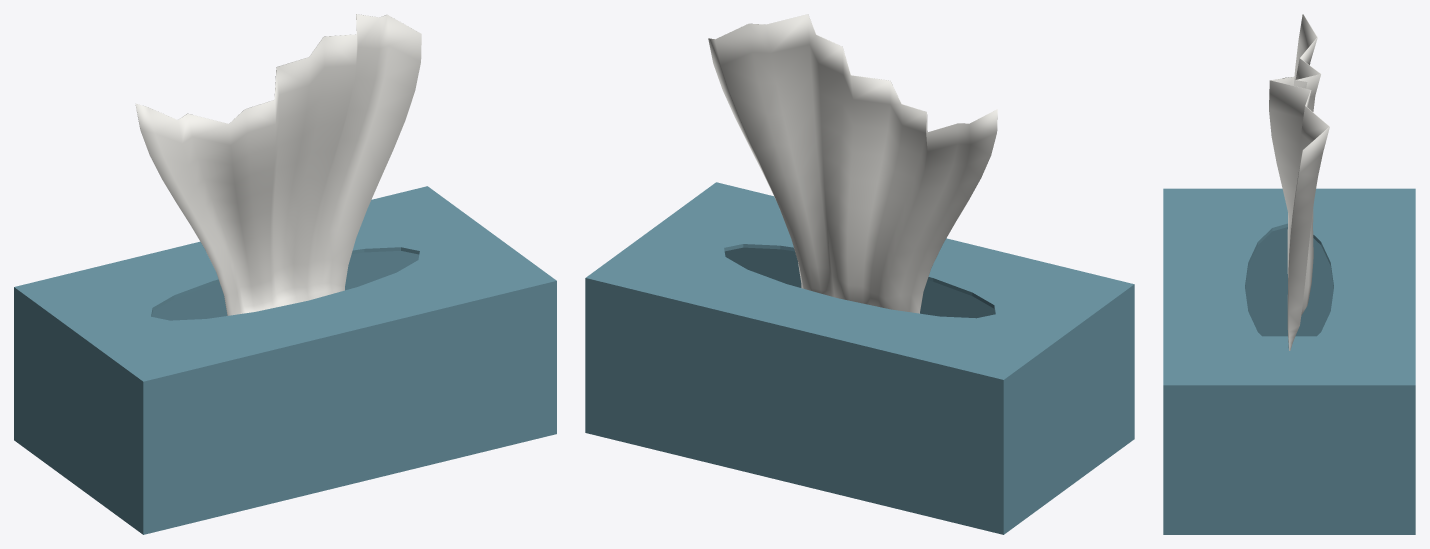
Rendered from A-NEW-20261027-TISSUE-BOX-001_LOD2_R2.glb.
3 renders of one model, left to right at view 1: azimuth 30°, elevation 25°; view 2: azimuth 150°, elevation 25°; view 3: azimuth 270°, elevation 25°, orthographic. The views are drawn at different scales.
Parts seen in each view (by area): view 1: plain hollow tissue carton, one thin folded emerging tissue; view 2: plain hollow tissue carton, one thin folded emerging tissue; view 3: plain hollow tissue carton, one thin folded emerging tissue.
Part boxes in pixels (x1,y1,x2,y2): plain hollow tissue carton: [14, 186, 556, 534]; one thin folded emerging tissue: [135, 14, 421, 315]; plain hollow tissue carton: [585, 182, 1134, 534]; one thin folded emerging tissue: [708, 14, 997, 313]; plain hollow tissue carton: [1163, 188, 1415, 534]; one thin folded emerging tissue: [1269, 14, 1329, 350].
Bounding box in the file's own units: 0.24 × 0.219 × 0.13.
